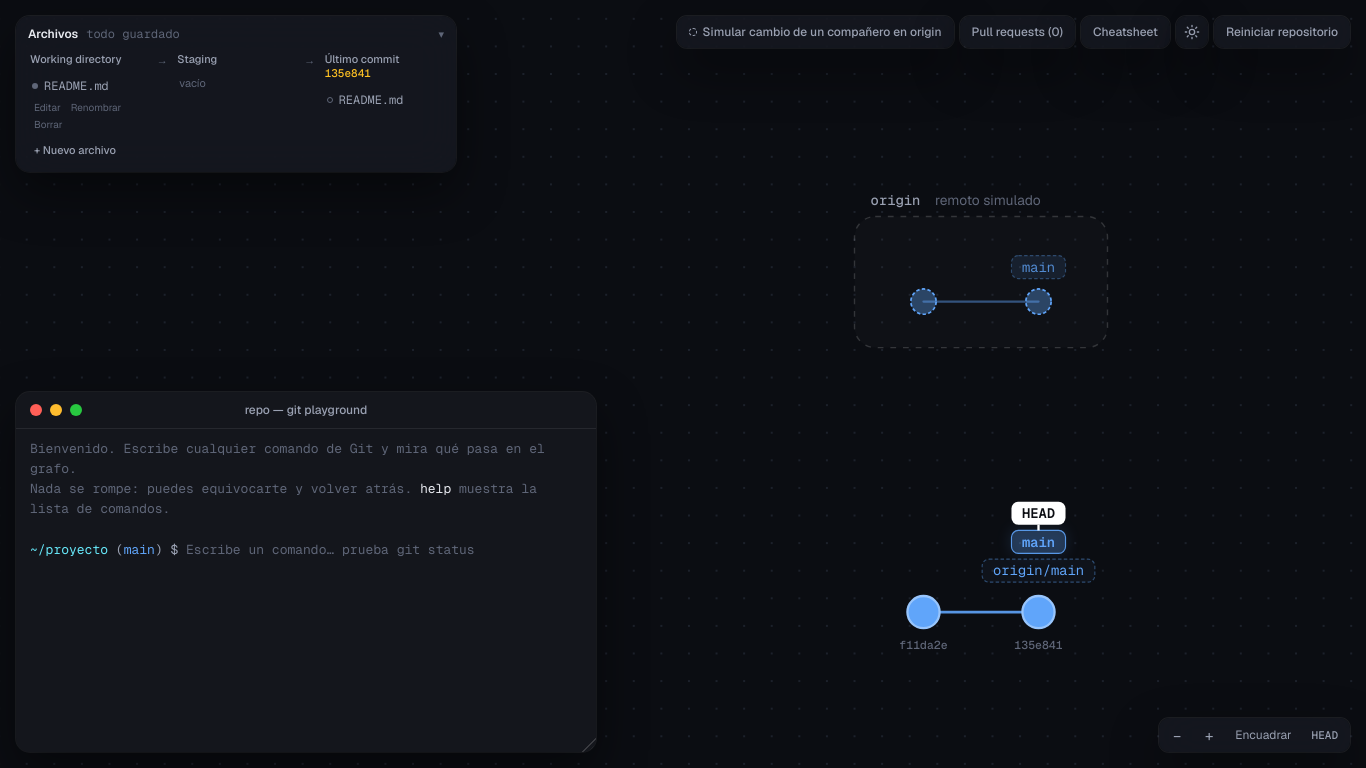
Test: PlaygroundShell › running a command updates the terminal output
This screenshot has width=1366, height=768.
Type "git status" into the field labelled "comando" at (384, 550), box [186,540,582,560]
Then press Enter
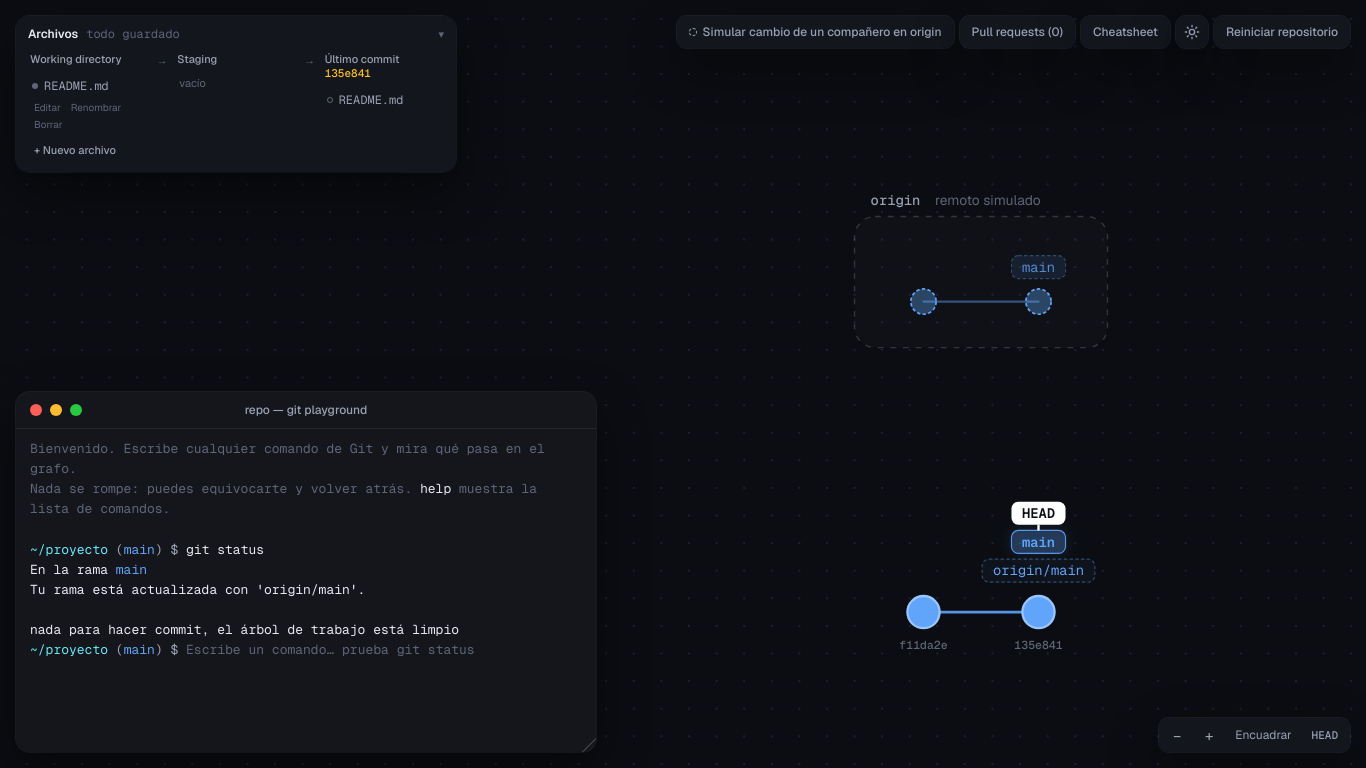
Check: the text "git status" is shown, box [186,541,264,558]
